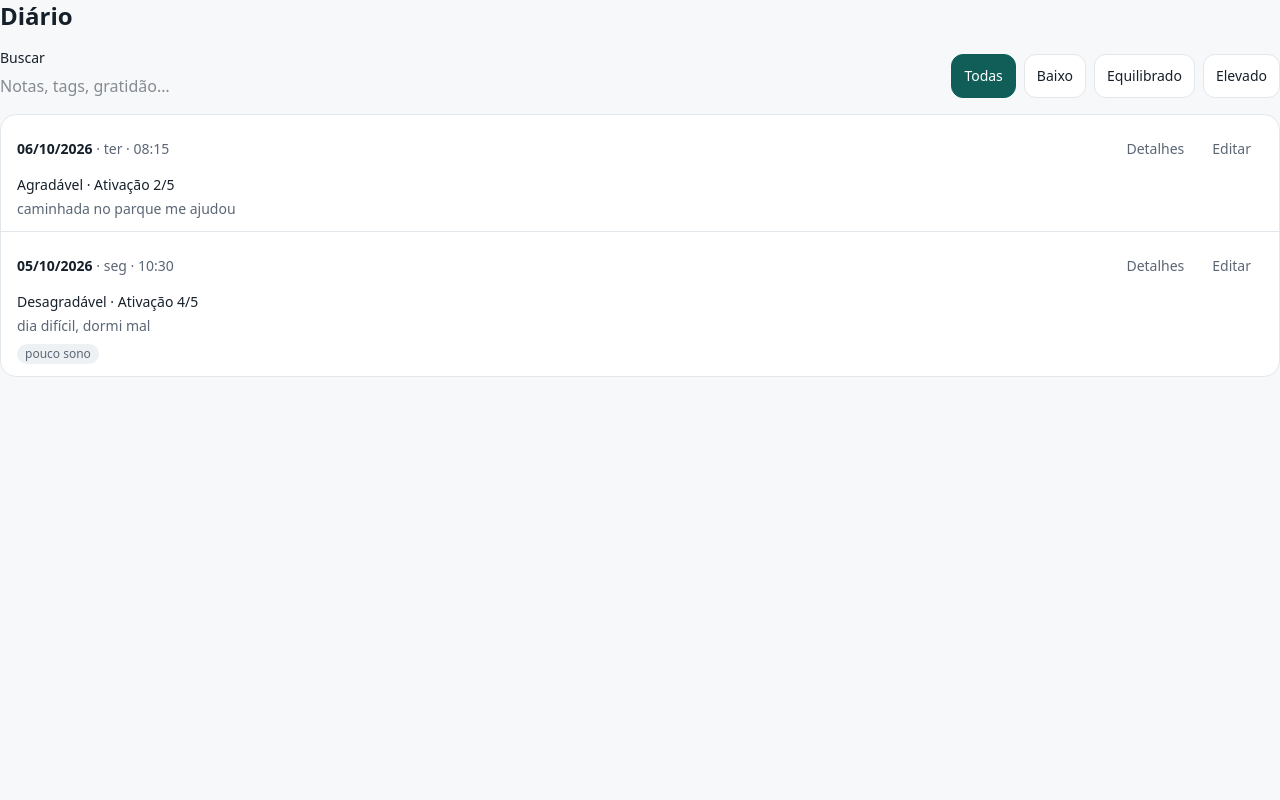
Scenario: JournalPage › edita a nota pelo modal e persiste no store
Click the button with aria-label "Editar registro das 08:15 em 06/10/2026" at point(1232, 149), box [1200, 127, 1263, 171]
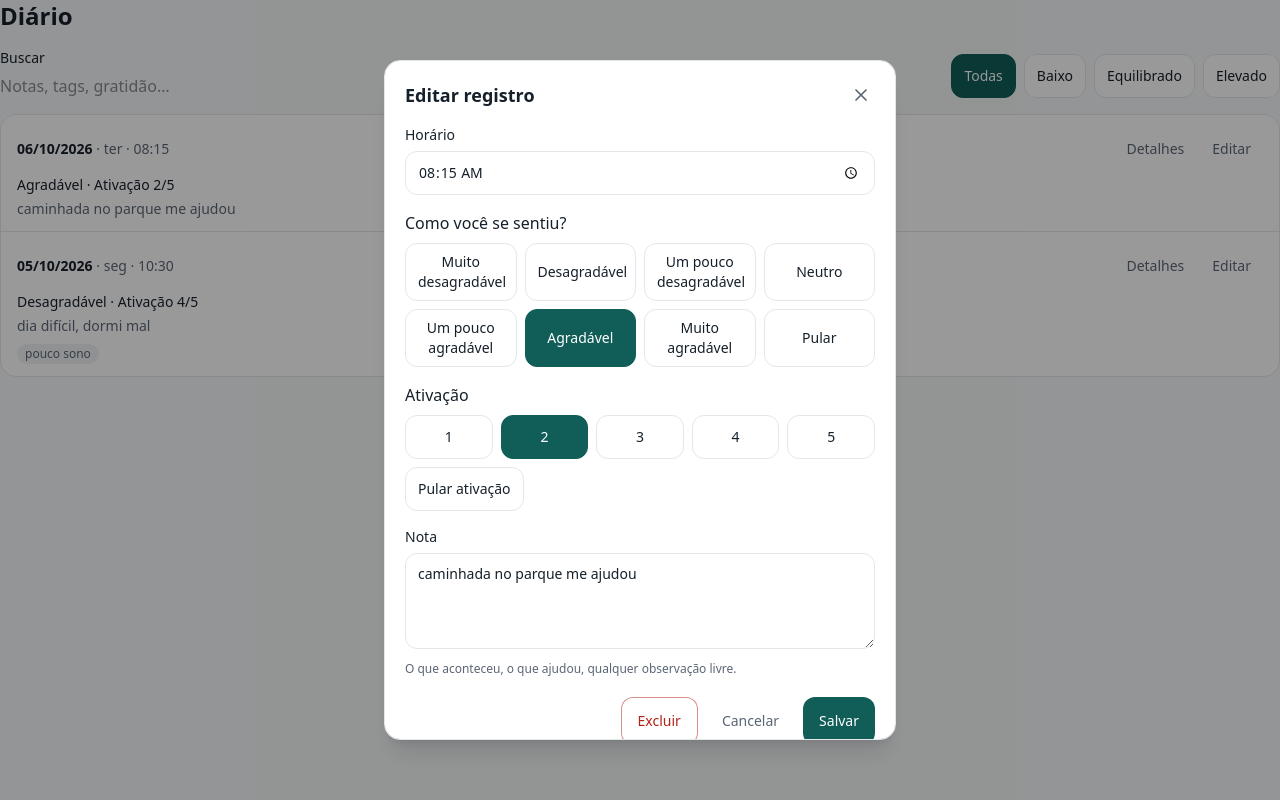
Replace the text in the text box labelled "Nota" with "anotei uma vitrine" at point(640, 601), box [405, 553, 875, 649]
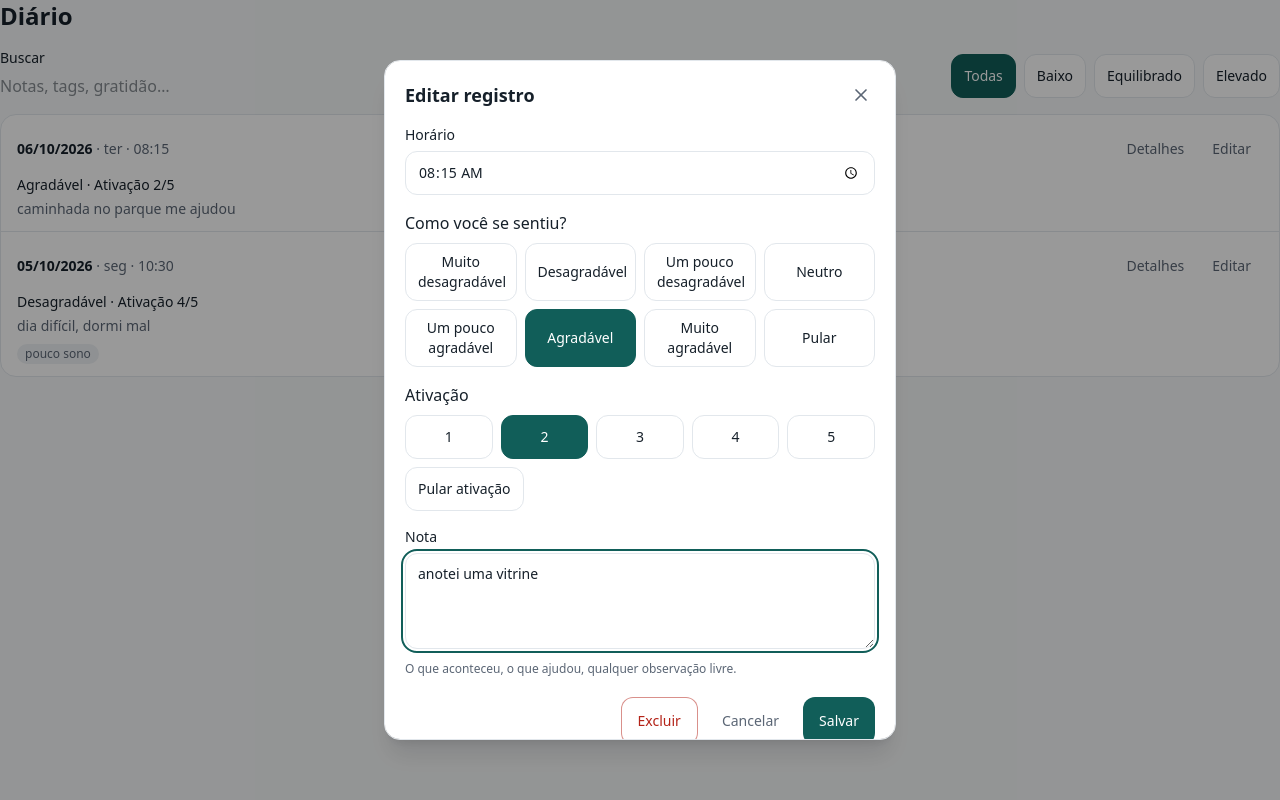
Click the button "Salvar" at point(839, 721), box [803, 697, 875, 745]
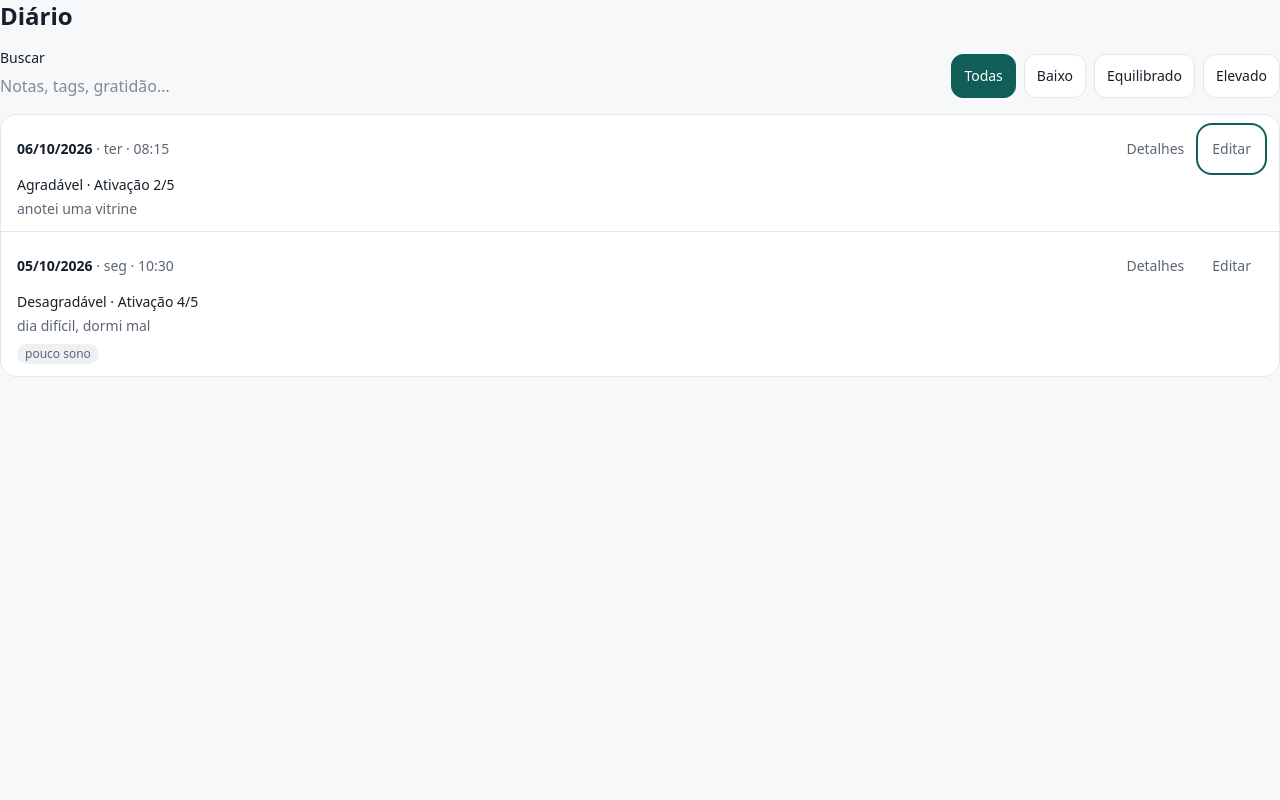
expect the dialog is gone: met
